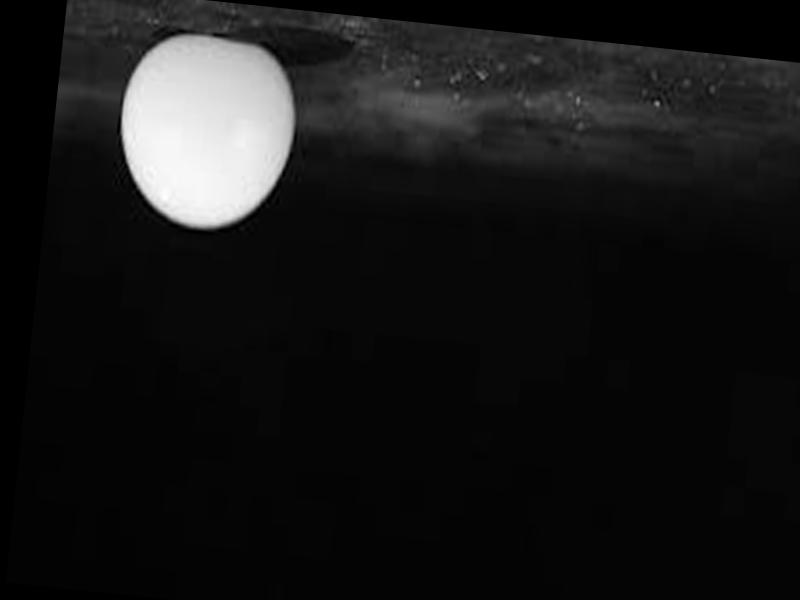Eggs: (111, 31, 303, 237)
